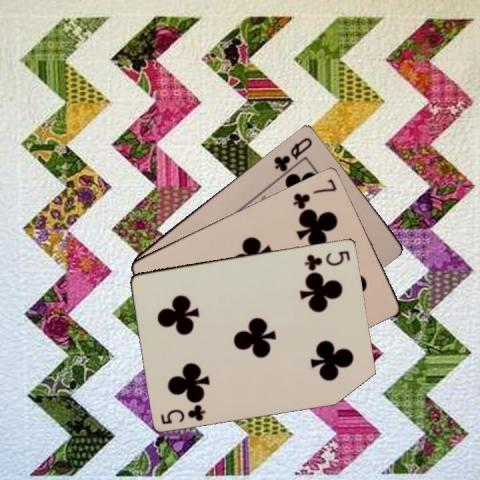5c: (158, 402, 207, 426), (302, 247, 351, 270)
7c: (290, 176, 338, 210)
Qc: (271, 133, 314, 173)
